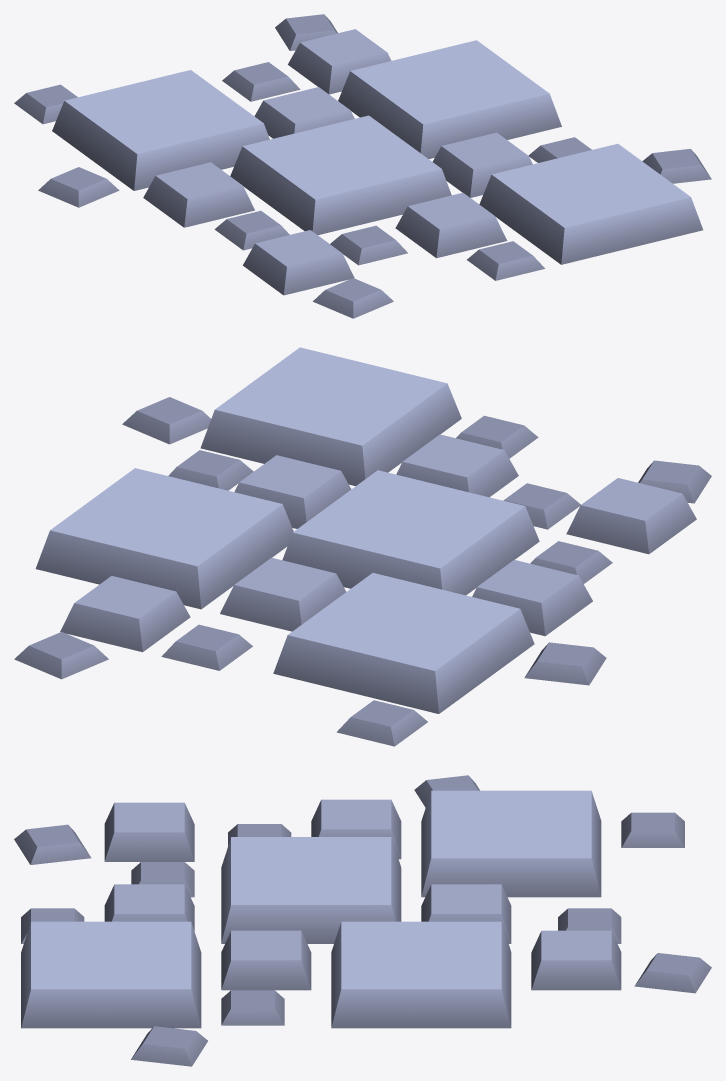
Rendered from road.glb.
The picture shows the model from 3 angles, top to bottom: view 1: azimuth 30°, elevation 25°; view 2: azimuth 150°, elevation 25°; view 3: azimuth 270°, elevation 25°; orthographic projection. The views are drawn at different scales.
Parts seen in each view (by area): view 1: Asset3DLoader.sceneRoot; view 2: Asset3DLoader.sceneRoot; view 3: Asset3DLoader.sceneRoot.
Part boxes in pixels (x1=…): Asset3DLoader.sceneRoot: x1=14, y1=14, x2=711, y2=318; Asset3DLoader.sceneRoot: x1=14, y1=347, x2=711, y2=746; Asset3DLoader.sceneRoot: x1=14, y1=775, x2=711, y2=1066.
Size of the model in its own units: 0.7568 by 0.0433 by 0.7869.
1 material, 1 textured.
